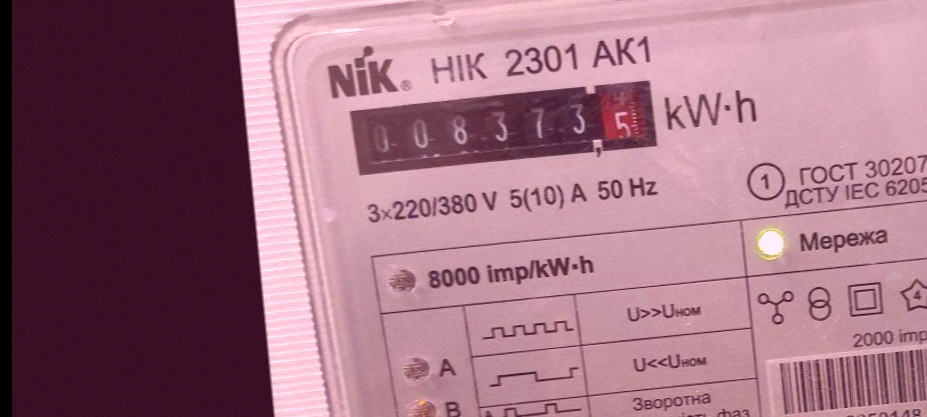0: (370, 118, 393, 156), (409, 113, 432, 151)
3: (566, 98, 591, 137), (488, 105, 512, 144)
4: (610, 86, 630, 108)
5: (613, 107, 634, 138)
7: (528, 101, 549, 141)
8: (448, 109, 473, 147)
screen: (344, 71, 668, 188)
